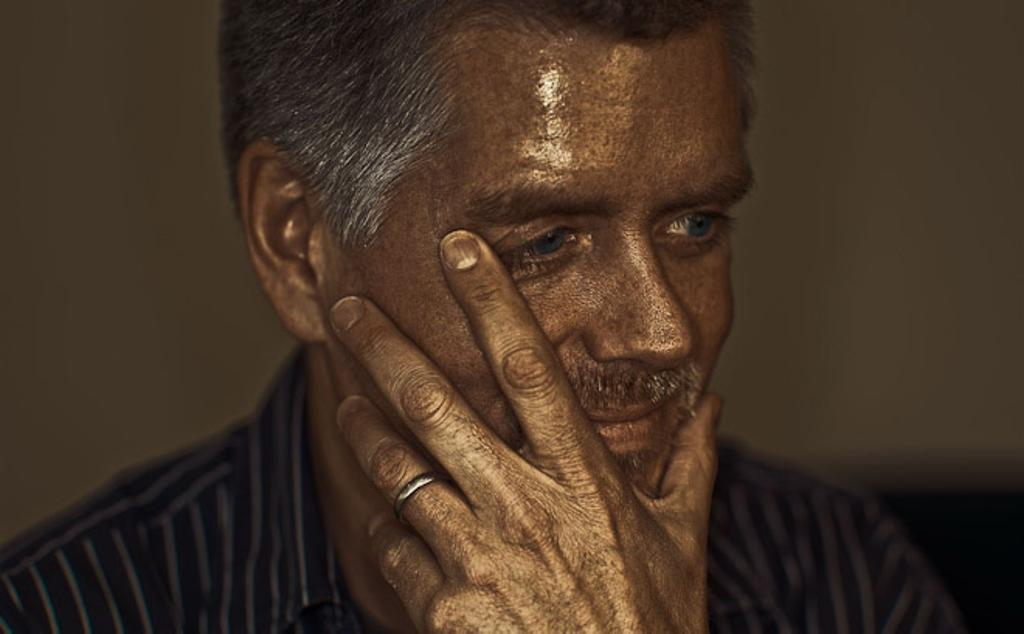face: (350, 32, 748, 570)
